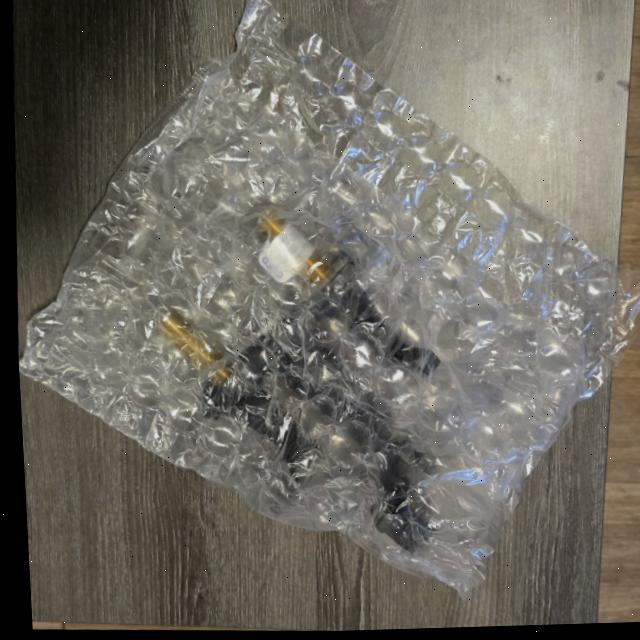9c: (19, 0, 640, 595)
